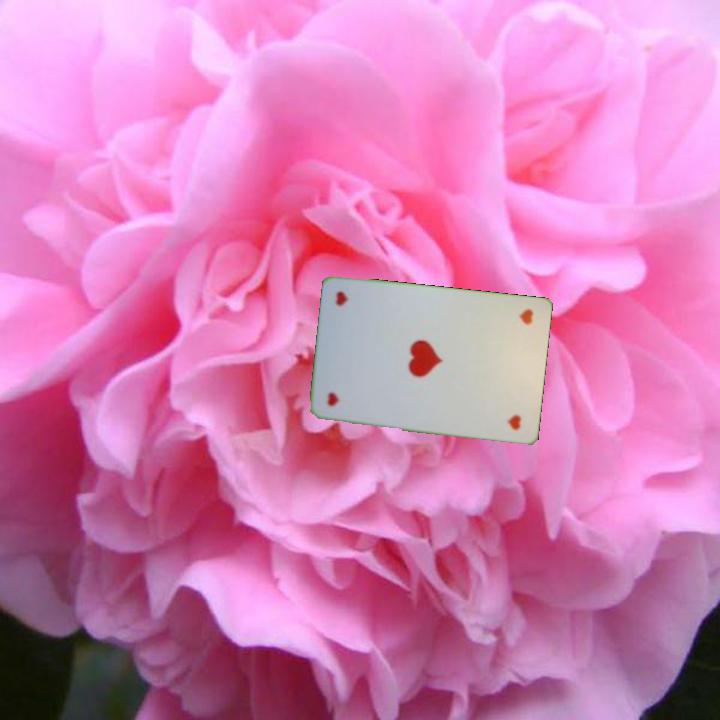h_a.png: (477, 301, 542, 373), (318, 345, 382, 418)
